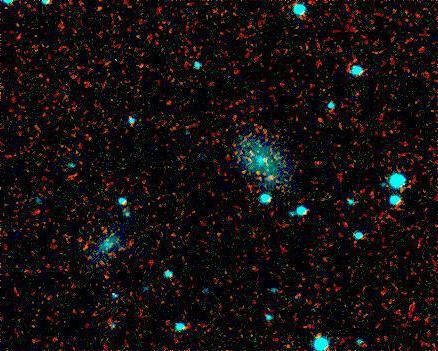star: (256, 163, 286, 193)
